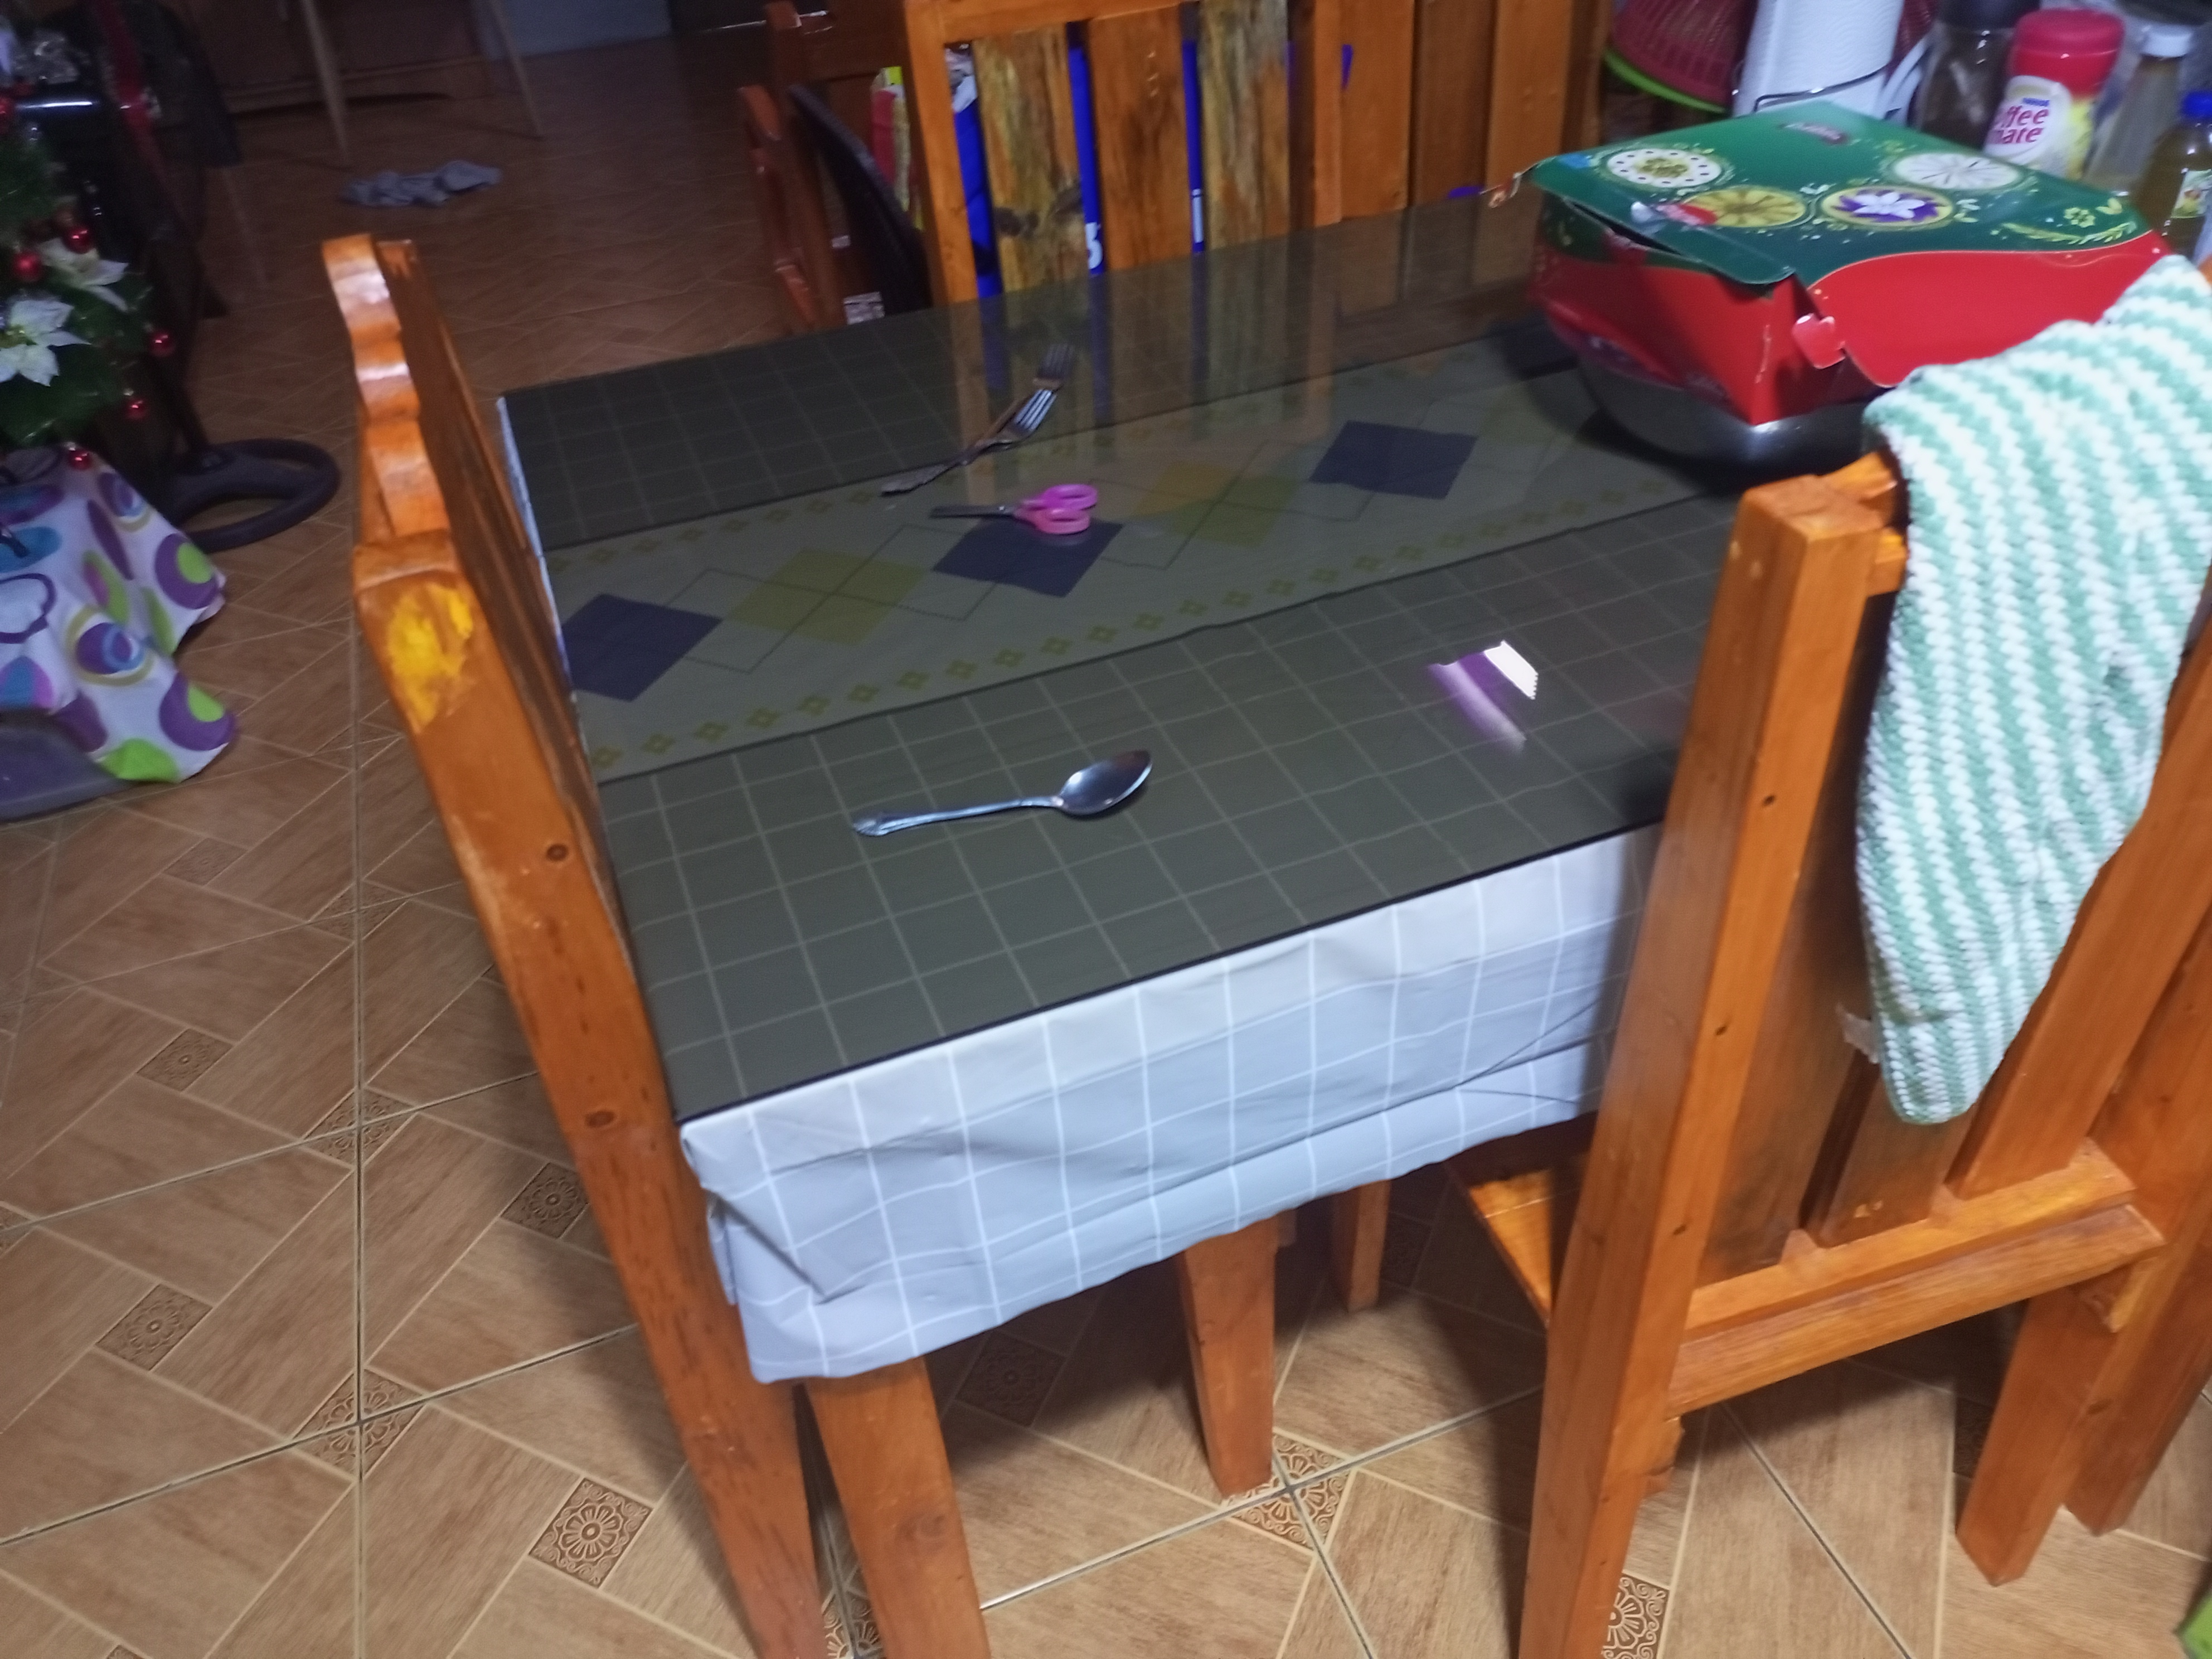spoon: (852, 751, 1153, 836)
